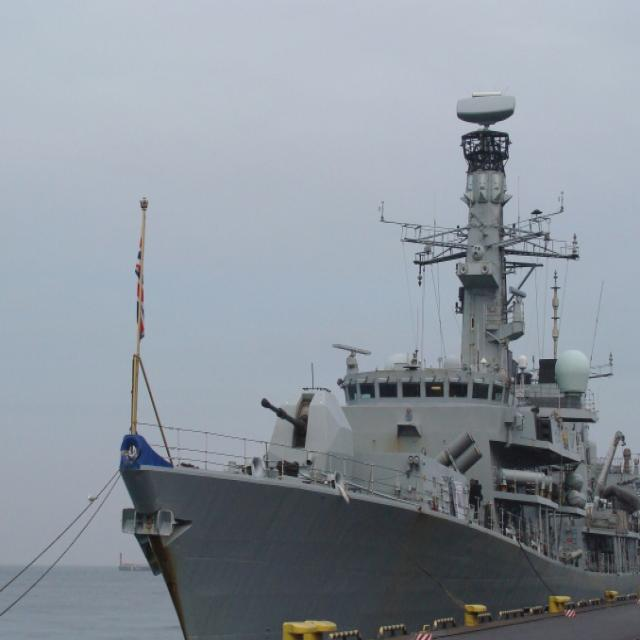Fragata: (115, 52, 640, 640)
